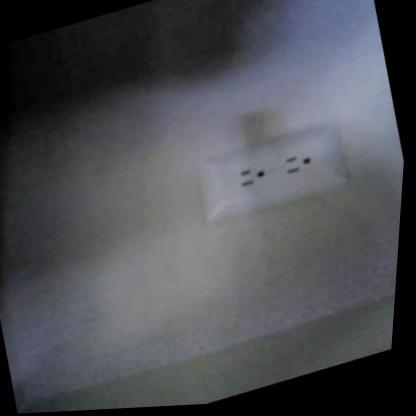OUTLET: (189, 118, 356, 227)
